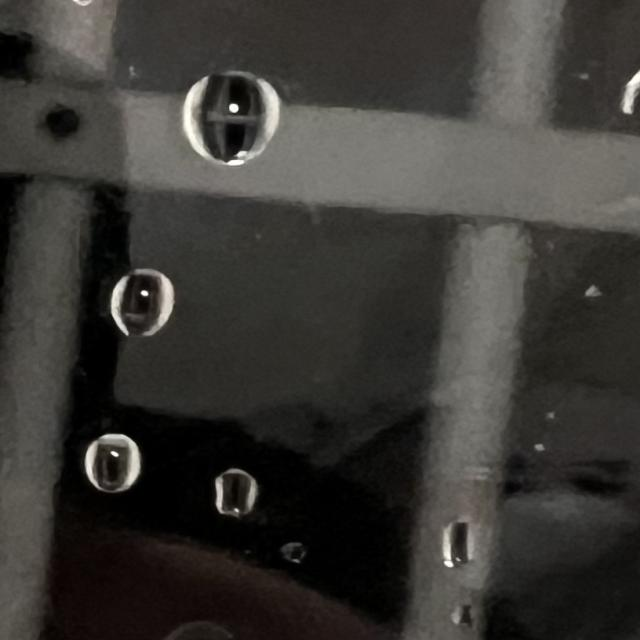raindrop: (173, 70, 299, 168), (115, 258, 192, 356), (88, 422, 146, 492), (429, 510, 483, 582), (204, 472, 268, 524), (438, 589, 484, 629)
